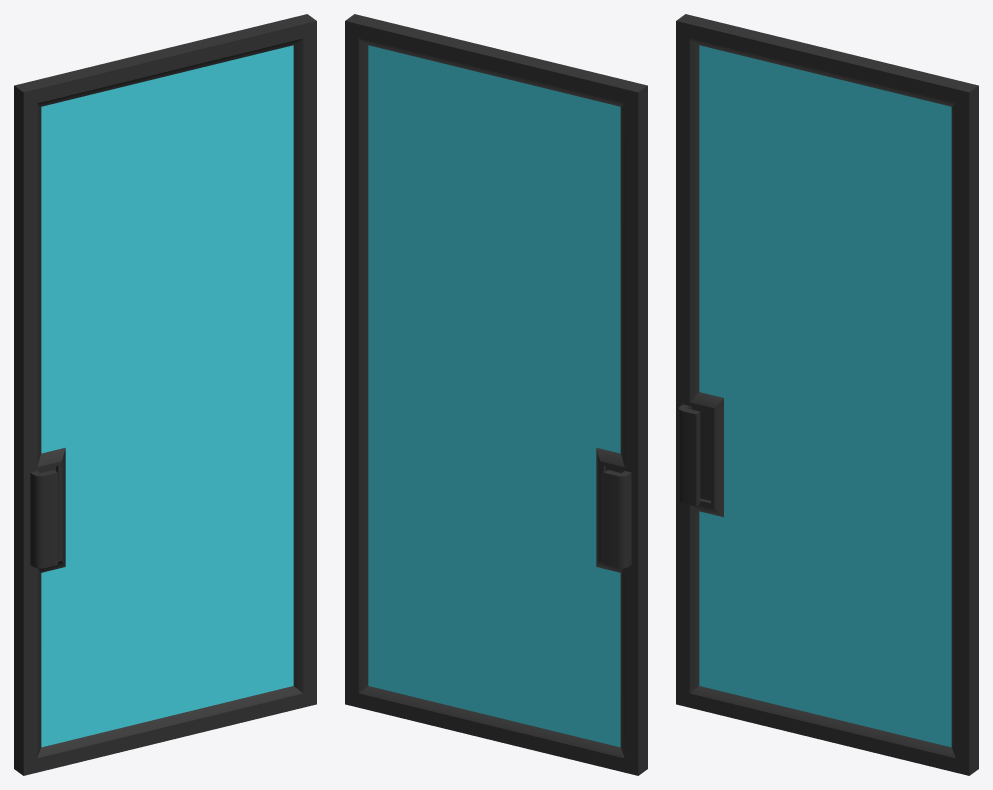
The model's file is SM_Buildings_Commercial_14_Door_R.fbx.
3 renders of one model, left to right at view 1: azimuth 30°, elevation 25°; view 2: azimuth 150°, elevation 25°; view 3: azimuth 330°, elevation 25°, orthographic.
Parts seen in each view (by area): view 1: SM_Buildings_Commercial_14_Door_R; view 2: SM_Buildings_Commercial_14_Door_R; view 3: SM_Buildings_Commercial_14_Door_R.
Boxes of the visible parts, box(x1,y1,x2,y2) form: SM_Buildings_Commercial_14_Door_R: box(14, 14, 316, 775); SM_Buildings_Commercial_14_Door_R: box(345, 14, 647, 775); SM_Buildings_Commercial_14_Door_R: box(676, 14, 978, 775).
Bounding box in the file's own units: 1.08 × 2.39 × 0.15.
